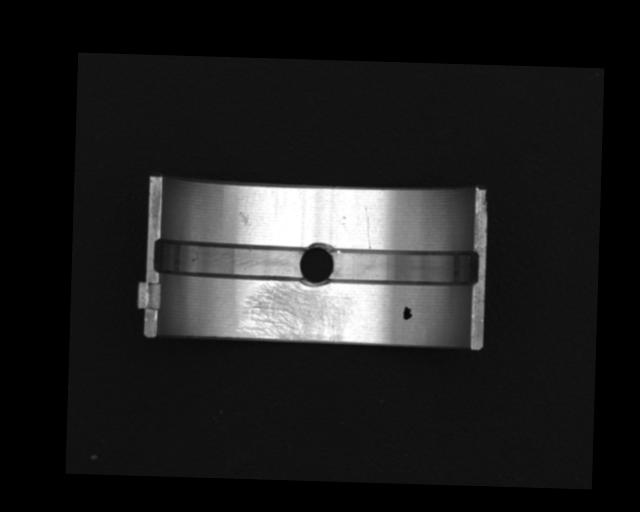blot: (401, 305, 413, 321)
bruise: (236, 210, 250, 225)
gap: (152, 240, 306, 281), (328, 246, 478, 288)
hole: (299, 239, 335, 289)
nick: (364, 214, 372, 249)
scratch: (238, 280, 355, 342)
